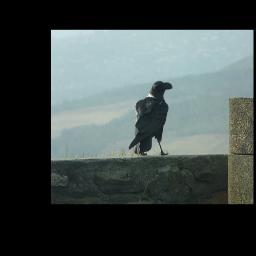Crow: (128, 80, 174, 156)
